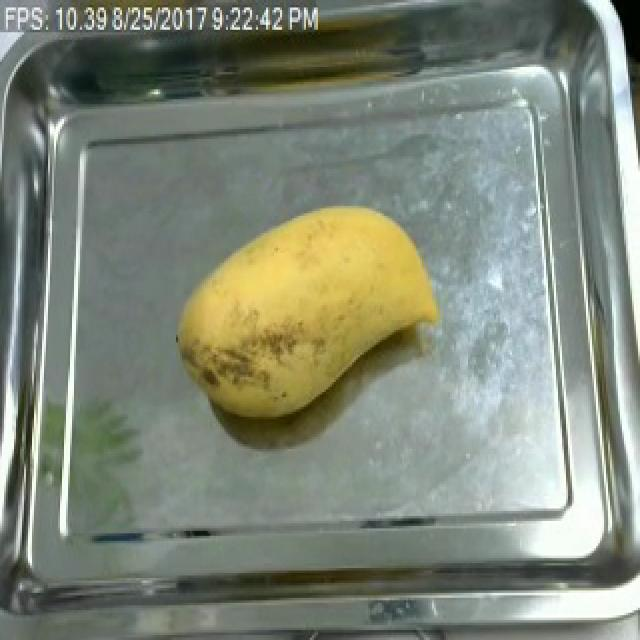fruit: (158, 188, 456, 436)
